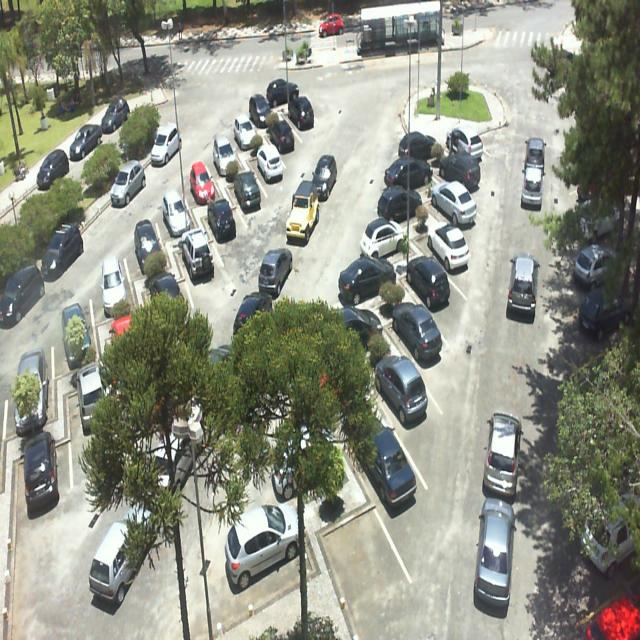bus: (356, 0, 444, 54)
car: (224, 502, 301, 594), (88, 506, 156, 605), (474, 497, 516, 618), (271, 423, 335, 501), (580, 492, 638, 578), (365, 427, 417, 508), (374, 354, 428, 425), (146, 431, 195, 508), (482, 412, 522, 502), (13, 348, 49, 436), (23, 431, 59, 517), (392, 301, 442, 362), (574, 593, 640, 639), (578, 286, 632, 342), (337, 256, 395, 306), (0, 264, 44, 328), (406, 255, 450, 310), (75, 361, 107, 435), (506, 252, 540, 318), (41, 222, 83, 275), (426, 222, 469, 273), (286, 178, 320, 242), (431, 180, 477, 227), (232, 291, 274, 341), (61, 302, 91, 370), (573, 243, 617, 288), (178, 228, 214, 282), (359, 217, 405, 259), (336, 306, 382, 348), (576, 197, 620, 240), (258, 247, 292, 299), (438, 150, 481, 191), (110, 159, 146, 207), (383, 156, 432, 190), (377, 185, 421, 222), (100, 255, 126, 317), (133, 218, 161, 274), (162, 188, 190, 238), (36, 148, 69, 190), (150, 123, 182, 165), (445, 126, 483, 161), (207, 198, 236, 243), (69, 123, 103, 161), (233, 170, 261, 212), (312, 154, 337, 201), (190, 160, 216, 204), (100, 97, 130, 133), (398, 131, 436, 159), (256, 144, 284, 182), (146, 271, 181, 301), (212, 133, 236, 176), (266, 78, 299, 108), (266, 119, 294, 154), (521, 165, 543, 209), (288, 95, 314, 131), (233, 113, 257, 150), (248, 93, 272, 127), (524, 137, 546, 173), (108, 315, 132, 345), (318, 12, 344, 38)
